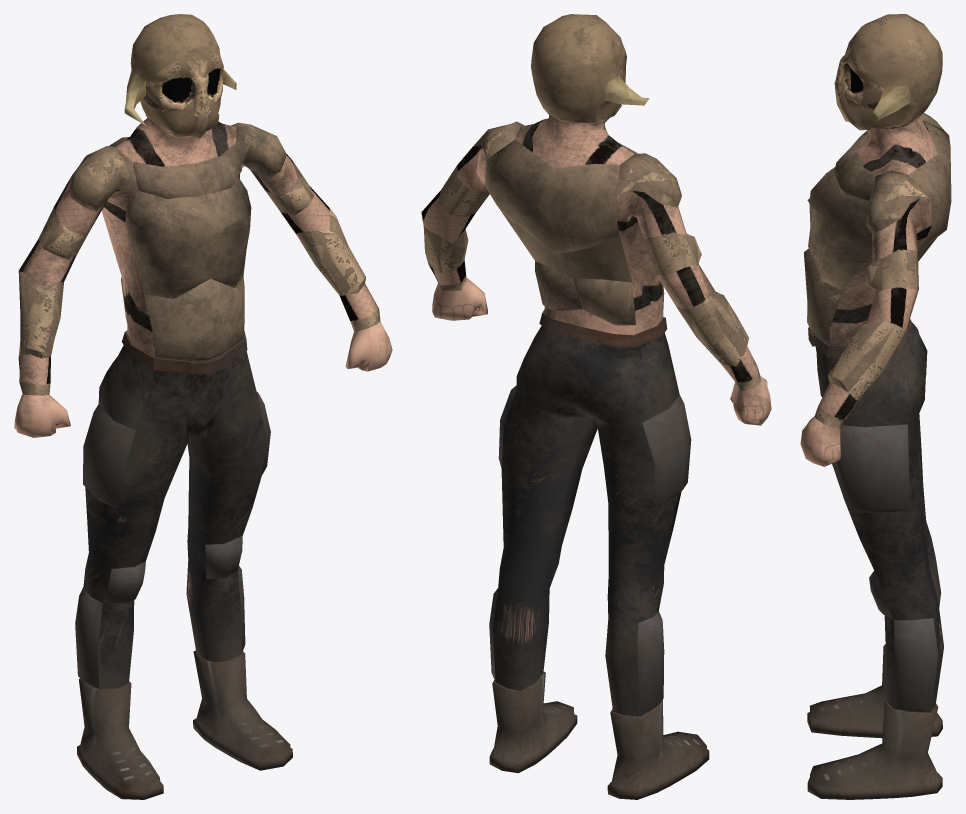
Rendered from Anim_idle_npc1.0042.obj.
3 views of the same model, side by side, from view 1: azimuth 30°, elevation 25°; view 2: azimuth 150°, elevation 25°; view 3: azimuth 270°, elevation 25° (orthographic).
Visible parts, largest first — view 1: NPC2; view 2: NPC2; view 3: NPC2.
Boxes of the visible parts, left/top/right/bottom form: NPC2: left=14, top=14, right=392, bottom=799; NPC2: left=421, top=14, right=771, bottom=799; NPC2: left=800, top=14, right=951, bottom=799.
Size of the model in its own units: 4.82 by 9.67 by 1.78.
